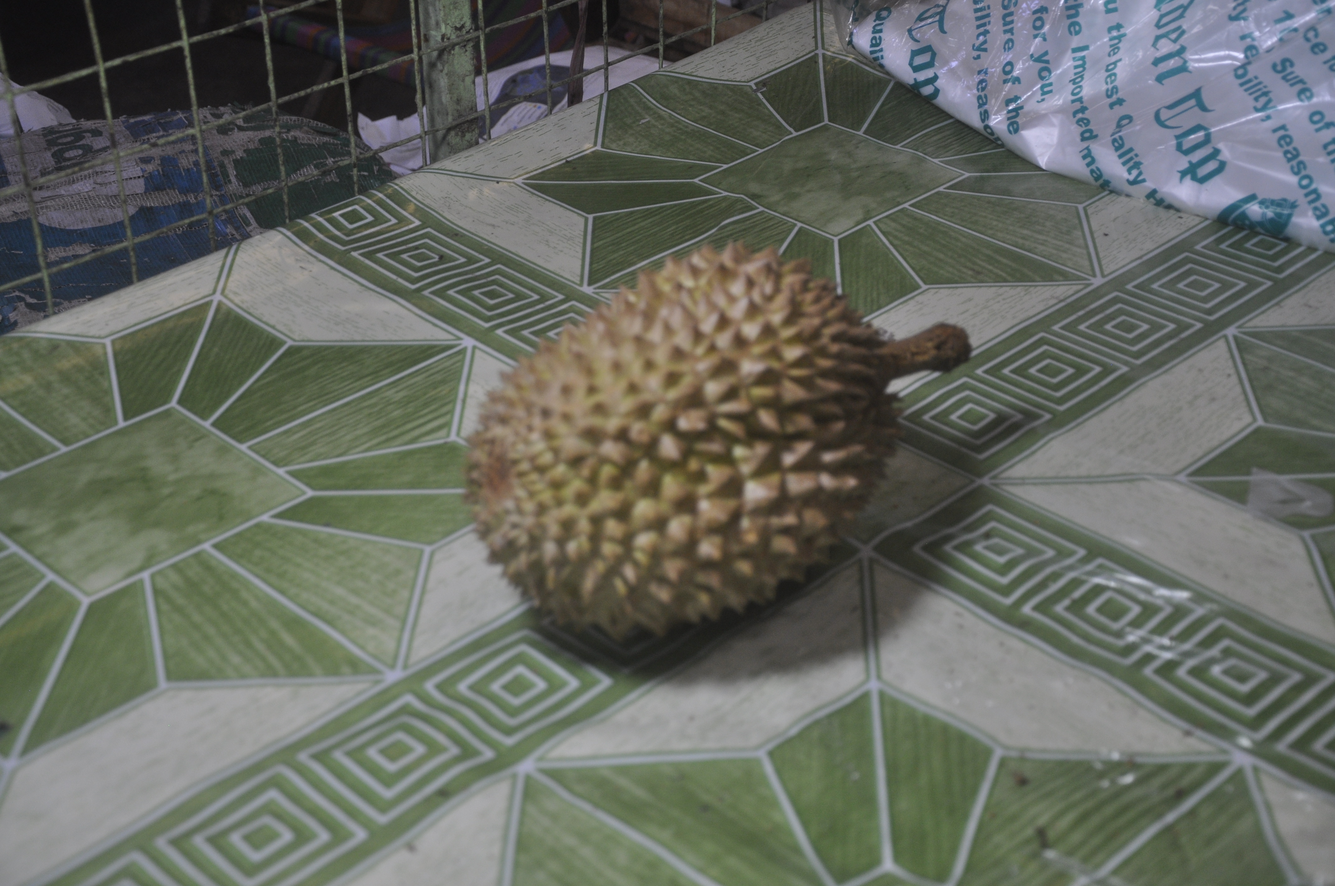mature: (466, 244, 969, 638)
